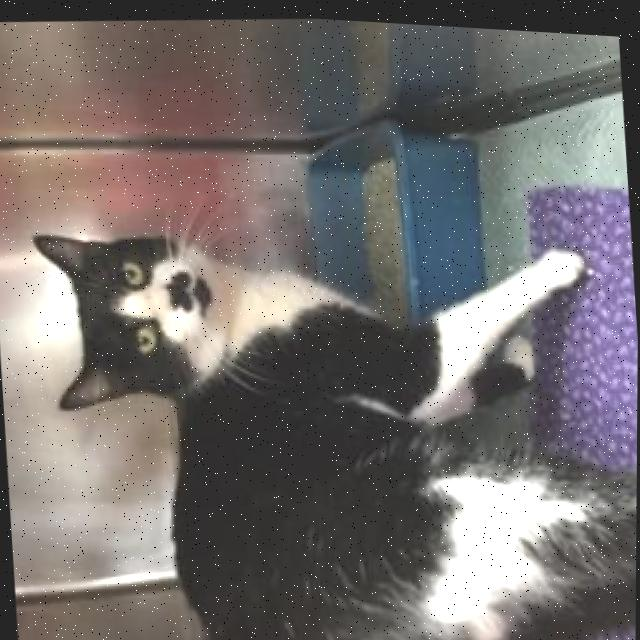Tuxedo: (22, 190, 639, 640)
